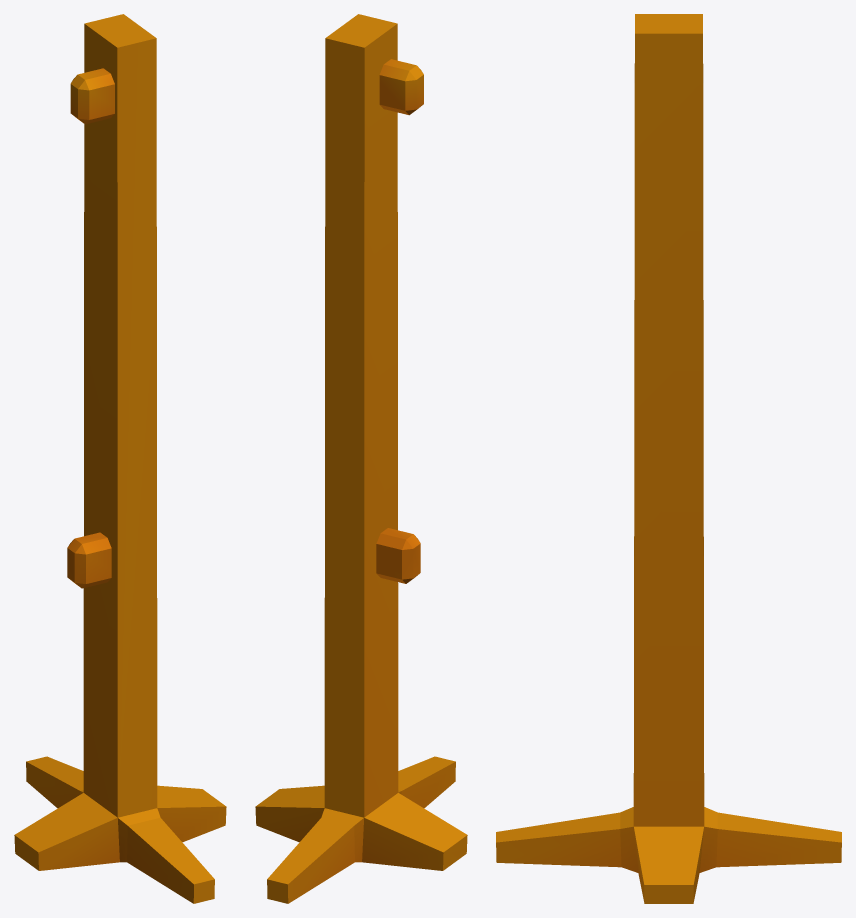
File: MetalBarrier_Pillar.fbx
3 views of the same model, side by side, from view 1: azimuth 30°, elevation 25°; view 2: azimuth 150°, elevation 25°; view 3: azimuth 270°, elevation 25° (orthographic). The views are drawn at different scales.
Visible parts, largest first — view 1: MetalBarrier_Pillar; view 2: MetalBarrier_Pillar; view 3: MetalBarrier_Pillar.
Part boxes in pixels (x1,y1,x2,y2): MetalBarrier_Pillar: [14, 14, 226, 903]; MetalBarrier_Pillar: [255, 14, 467, 903]; MetalBarrier_Pillar: [496, 14, 841, 903].
Bounding box in the file's own units: 32.91 × 137 × 50.88.
